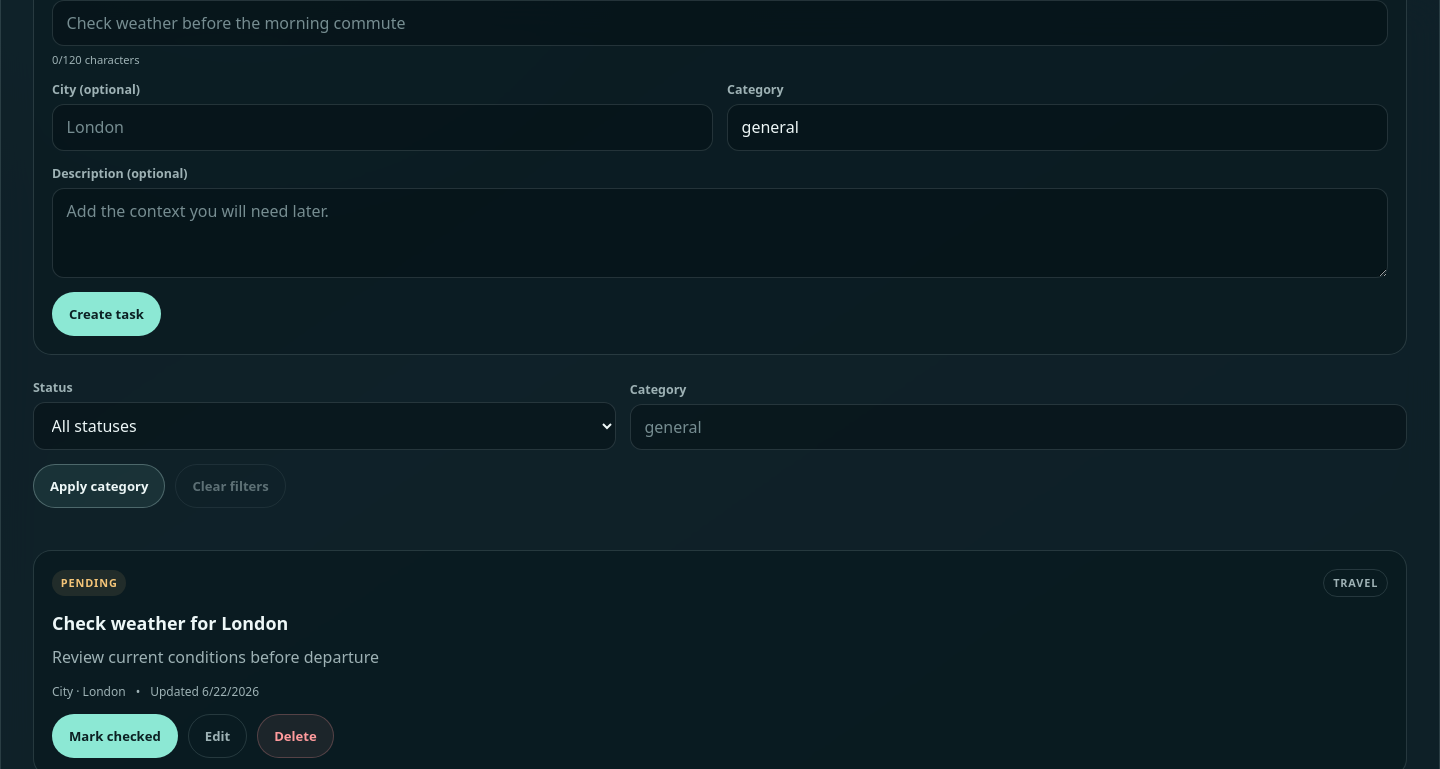
Test case: task workspace › loads one task by ID and saves edited fields
(page scrolled)
Click the button "Edit": (217, 736) [188, 714, 247, 758]
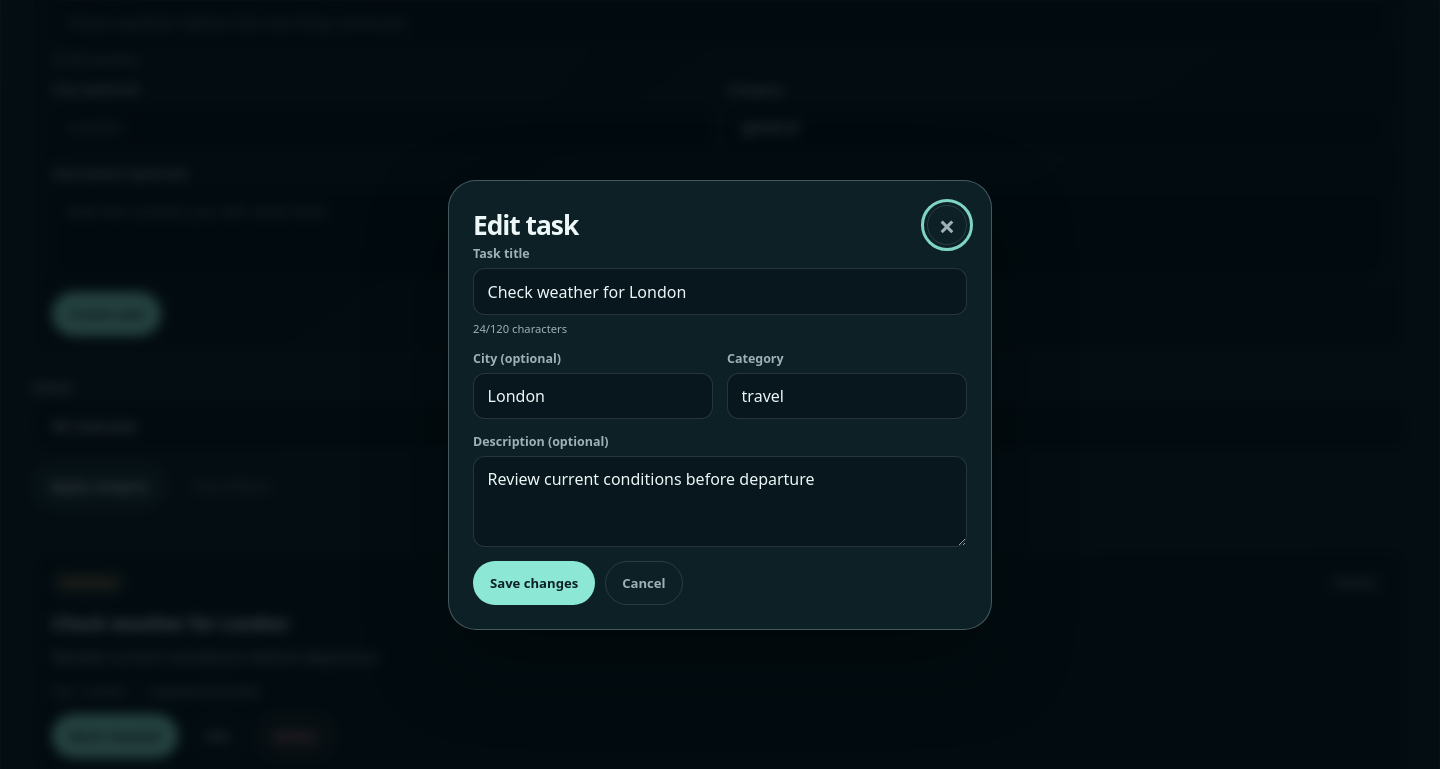
Replace the text in the field labelled "Task title" with "Review the updated forecast": (720, 292) [473, 268, 967, 315]
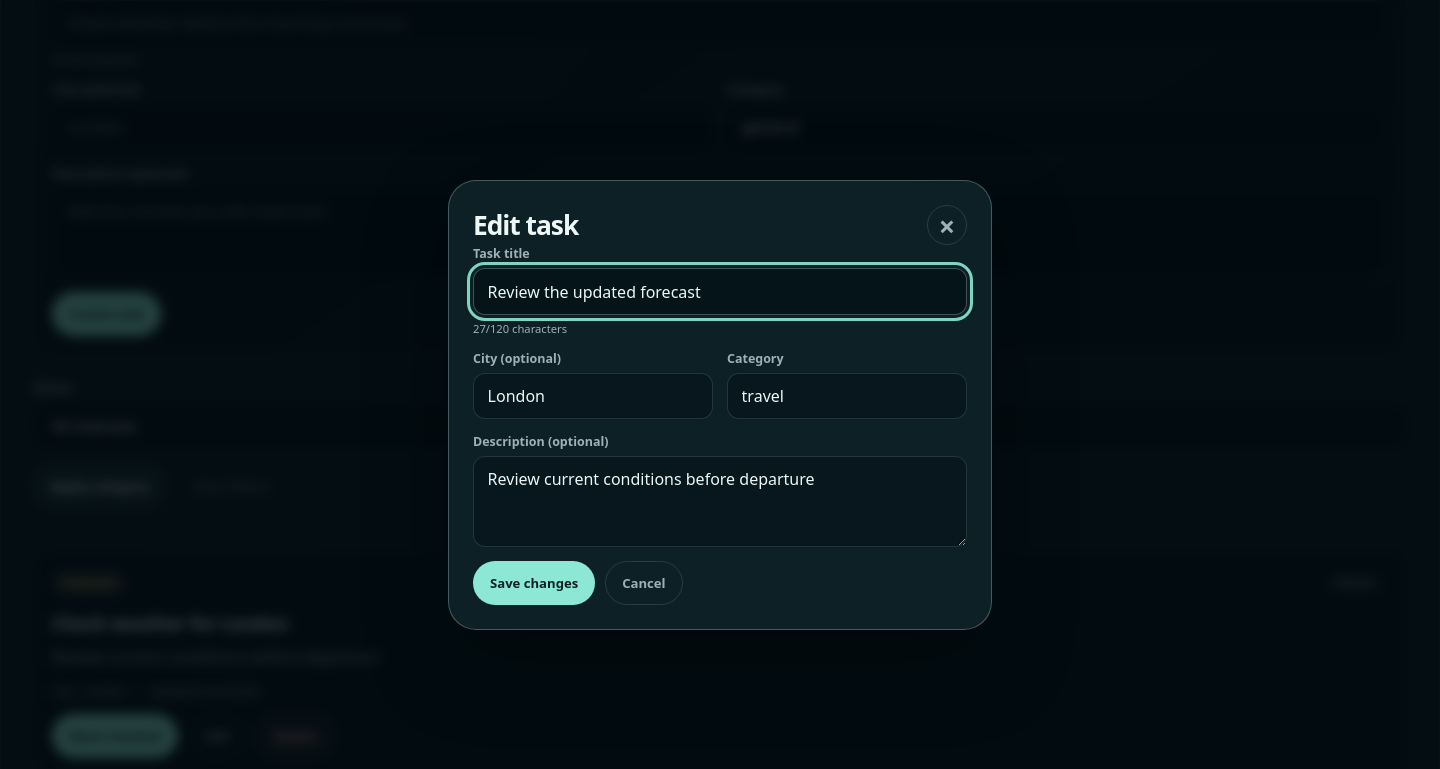
Click the button "Save changes": (534, 583) [473, 561, 595, 605]
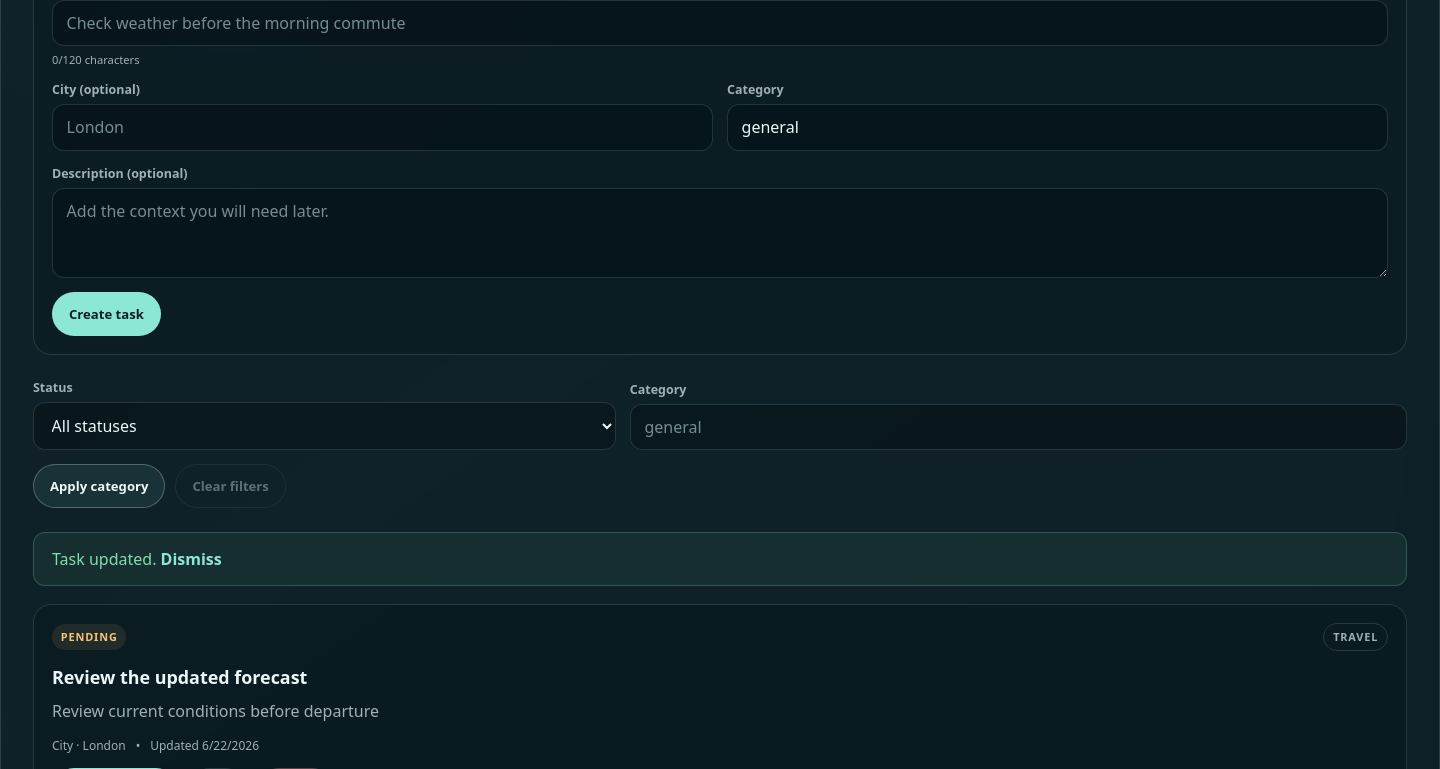
expect the text "Task updated." is shown: met, box [52, 548, 156, 570]
expect the heading "Review the updated forecast" is shown: met, box [52, 664, 307, 688]
